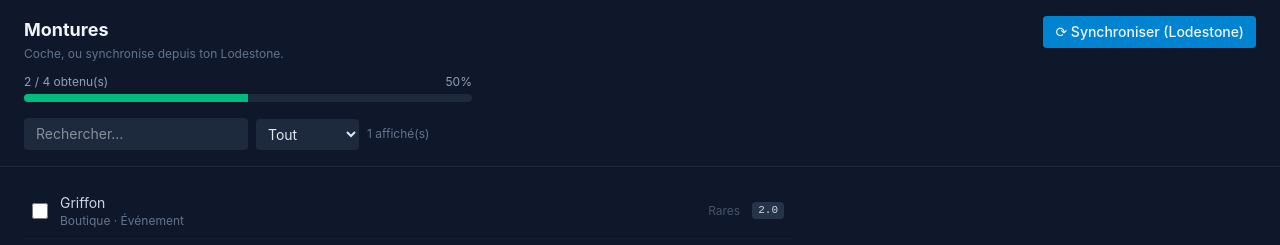
Test case: CollectionsView › toggles an item, updates progress and refreshes sidebar badges
This screenshot has width=1280, height=245.
Check: the text "Griffon" is shown, box [60, 194, 105, 210]
Click the checkbox: {"x": 40, "y": 210} [32, 202, 48, 218]
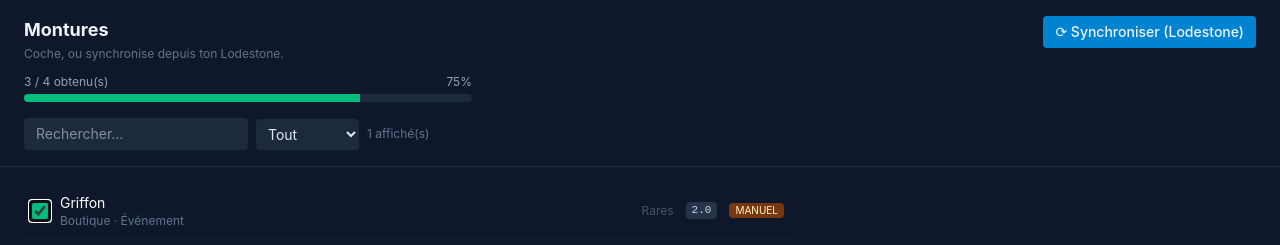
Check: the text "3 / 4 obtenu(s)" is shown, box [24, 74, 108, 90]
Check: the text "manuel" is shown, box [729, 203, 784, 218]
